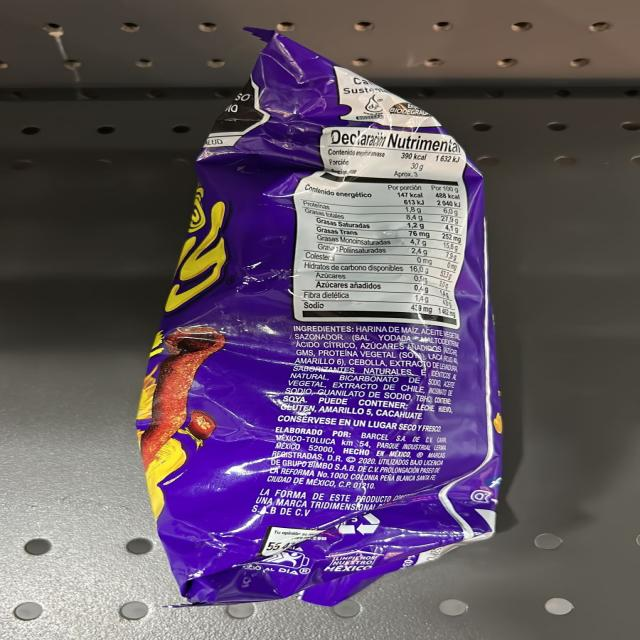productoAtras: (247, 56, 488, 594)
